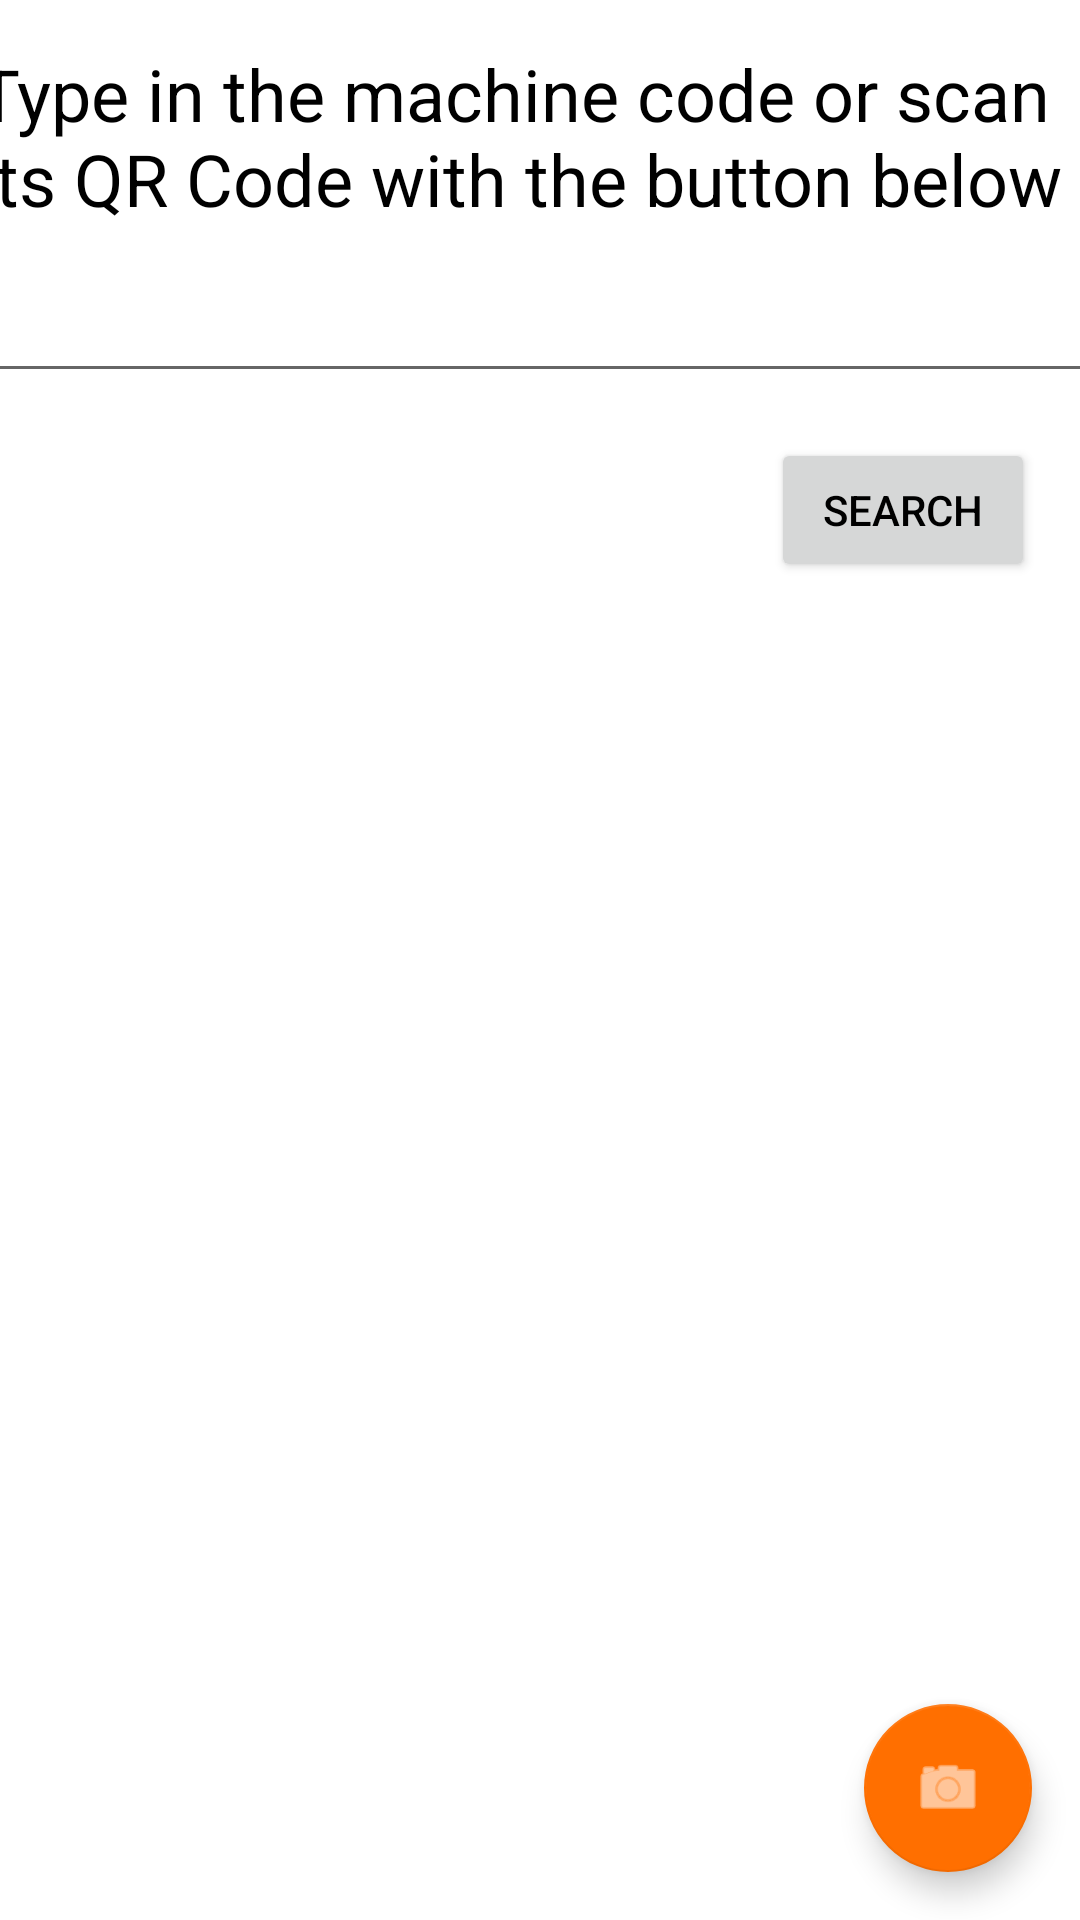

Named icons in this screenshot (1080px x 1920px) and their centers, (x=x, y=y):
Open camera view for QR Code scanning: (x=948, y=1788)
